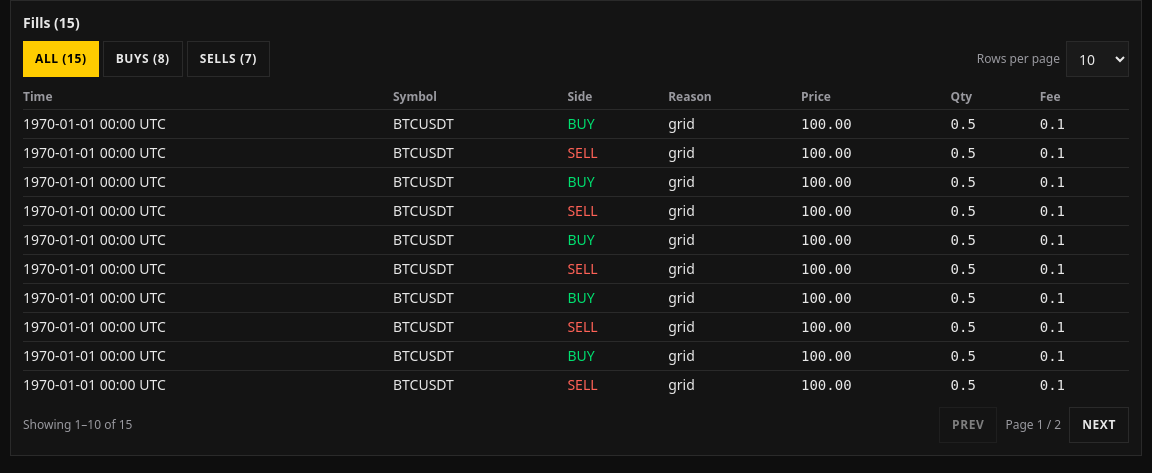
Scenario: BacktestFills pagination + filter › paginates at the default 10 rows and steps with Prev/Next
Check: the text with test id "bt-fills-range" reads "Showing 1–10 of 15", box [23,416,132,433]
Check: the button with test id "bt-fills-prev" is disabled, box [939,407,997,443]
Click the button with test id "bt-fills-next" at (1099, 425), box [1069,407,1129,443]
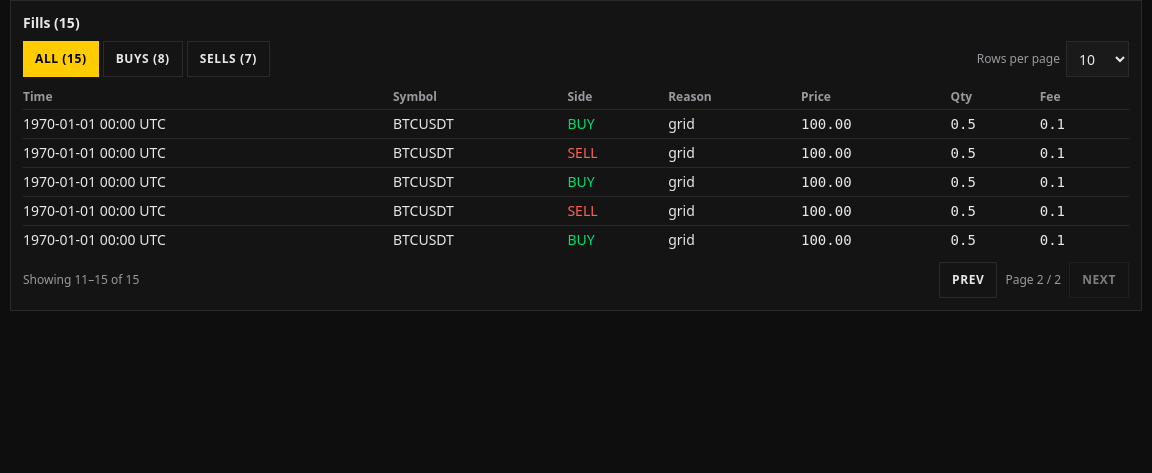
Check: the text with test id "bt-fills-range" reads "Showing 11–15 of 15", box [23,271,139,288]
Check: the button with test id "bt-fills-next" is disabled, box [1069,262,1129,298]
